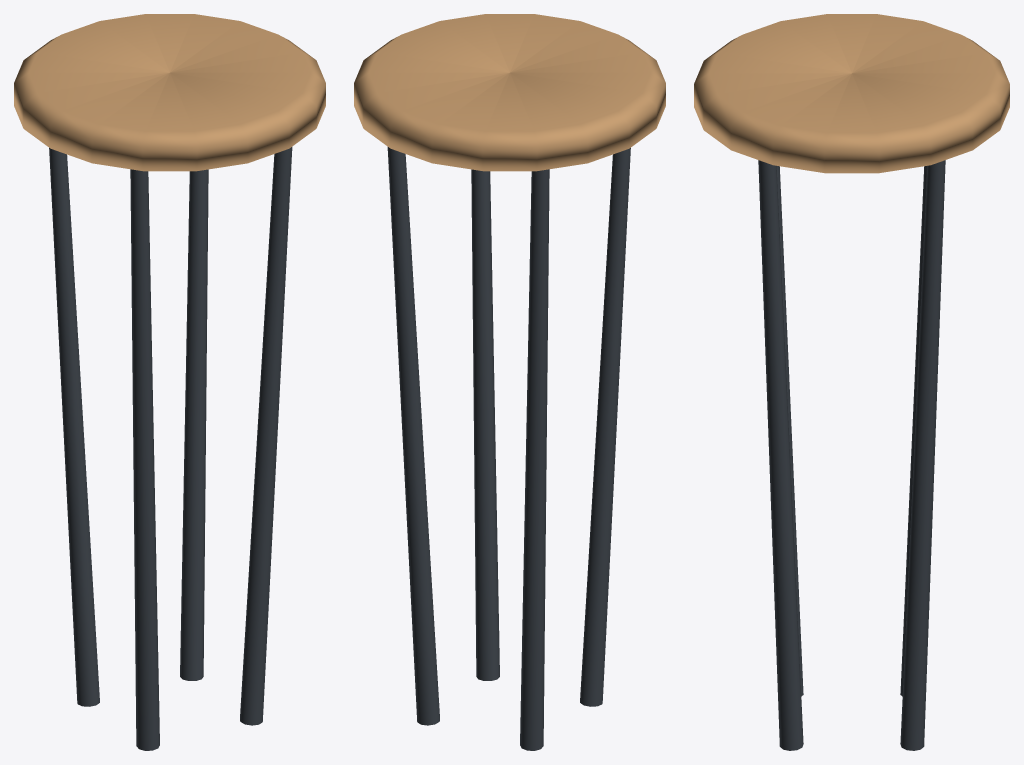
The model's file is barstool-lite.glb.
The picture shows the model from 3 angles, left to right: view 1: azimuth 30°, elevation 25°; view 2: azimuth 150°, elevation 25°; view 3: azimuth 270°, elevation 25°; orthographic projection.
Parts seen in each view (by area): view 1: material-0-leg, material-1-top; view 2: material-0-leg, material-1-top; view 3: material-1-top, material-0-leg.
Part boxes in pixels (x1,y1,x2,y2): material-0-leg: (49, 147, 292, 750); material-1-top: (14, 14, 325, 171); material-0-leg: (387, 147, 630, 750); material-1-top: (354, 14, 665, 171); material-1-top: (694, 14, 1009, 173); material-0-leg: (758, 160, 945, 750).
Bounding box in the file's own units: 0.4136 × 0.95 × 0.42.
